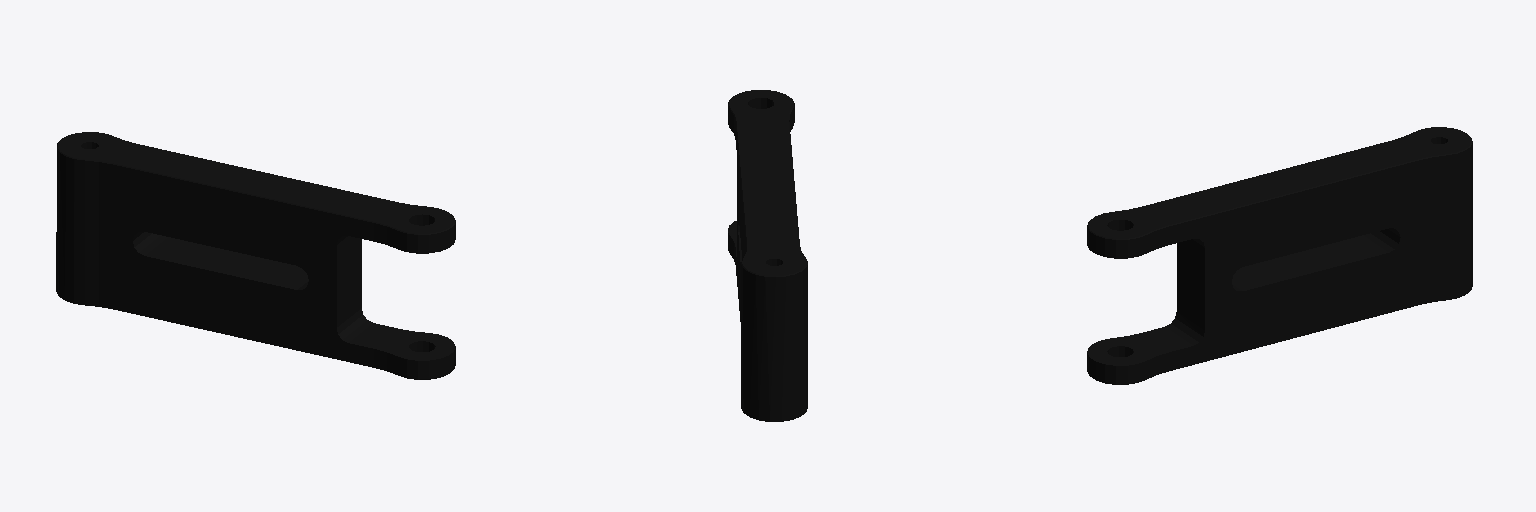
The model's file is inner_link.obj.
3 renders of one model, left to right at view 1: azimuth 30°, elevation 25°; view 2: azimuth 150°, elevation 25°; view 3: azimuth 270°, elevation 25°, orthographic.
Visible parts, largest first — view 1: Link2; view 2: Link2; view 3: Link2.
Boxes of the visible parts, x1,y1,x2,y2 form: Link2: [56, 132, 455, 379]; Link2: [728, 90, 807, 421]; Link2: [1087, 127, 1472, 384].
Bounding box in the file's own units: 0.0298 × 0.018 × 0.0431.